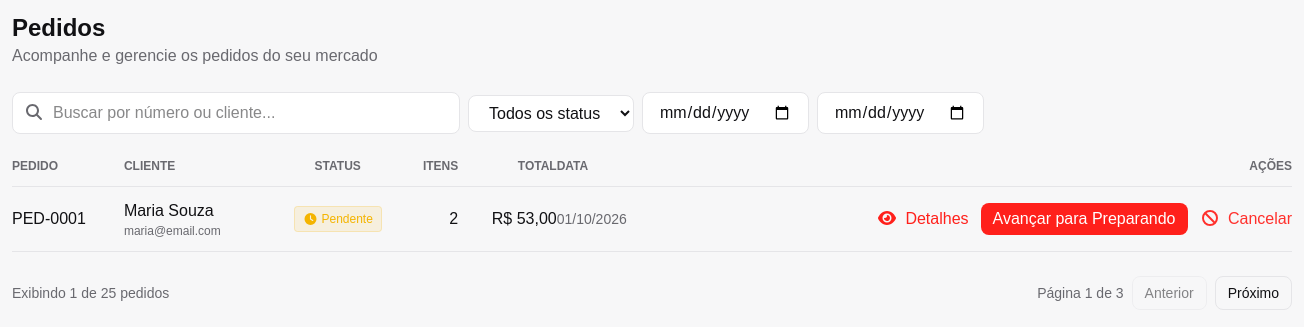
Test: OrdersPage — paginação › recarrega uma página válida quando a atual deixa de existir
The image size is (1304, 327).
Expected: the text "Página 1 de 3" is shown, [1037,283,1124,303]
Click the button "Próximo" at coordinates (1253, 293), box [1215,276,1292,310]
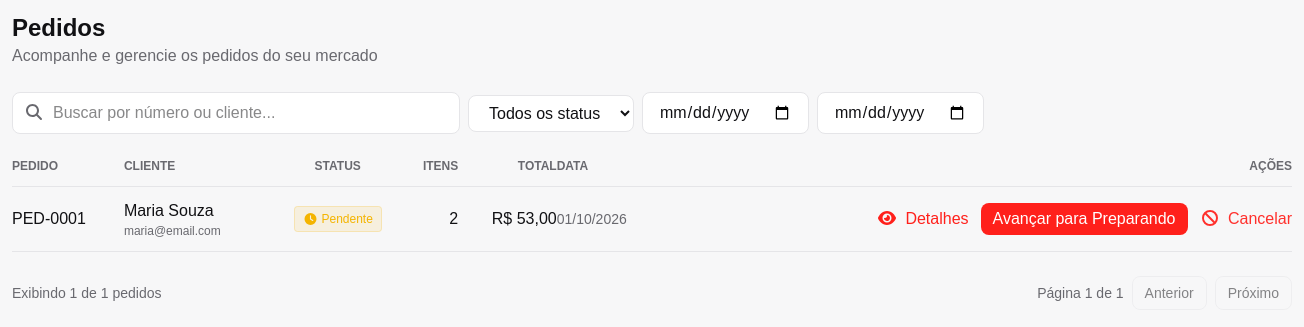
Expected: the text "Página 1 de 1" is shown, [1037,283,1124,303]
